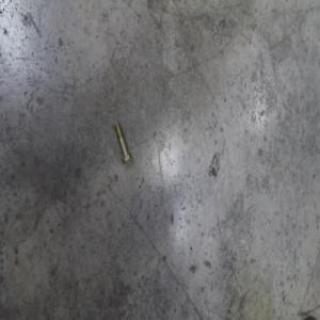Bolttrack_idkeyframe: (112, 121, 131, 165)
